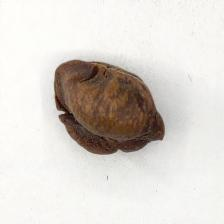NG: (54, 60, 164, 154)
